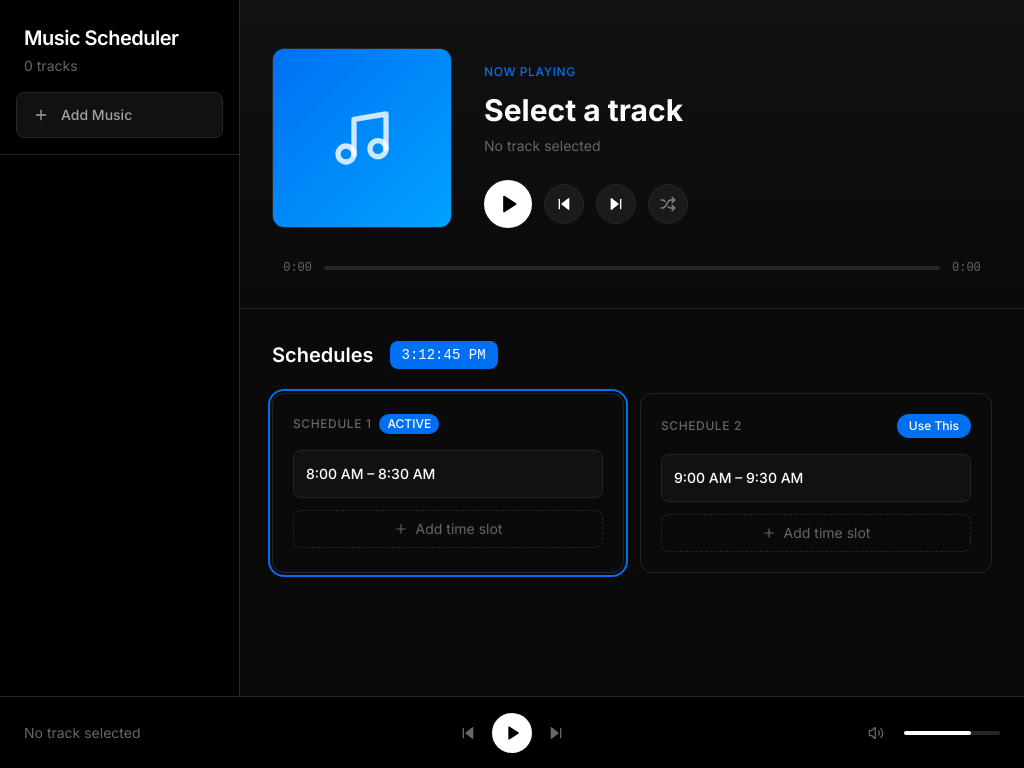
it: MusicScheduler Component › Add Music Panel › opens panel when clicking Add Music
Click the button "Add Music". click: (120, 115)
box: [16, 92, 223, 138]
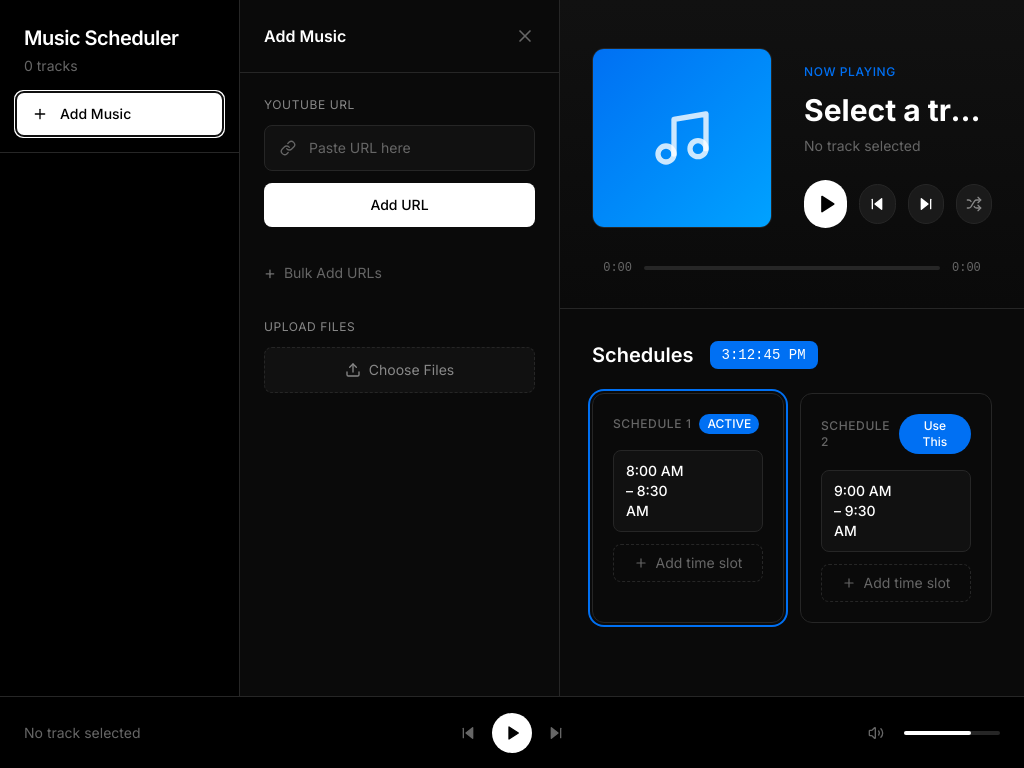
Result: the field with placeholder "Paste URL here" is shown at [264, 125, 535, 171]
